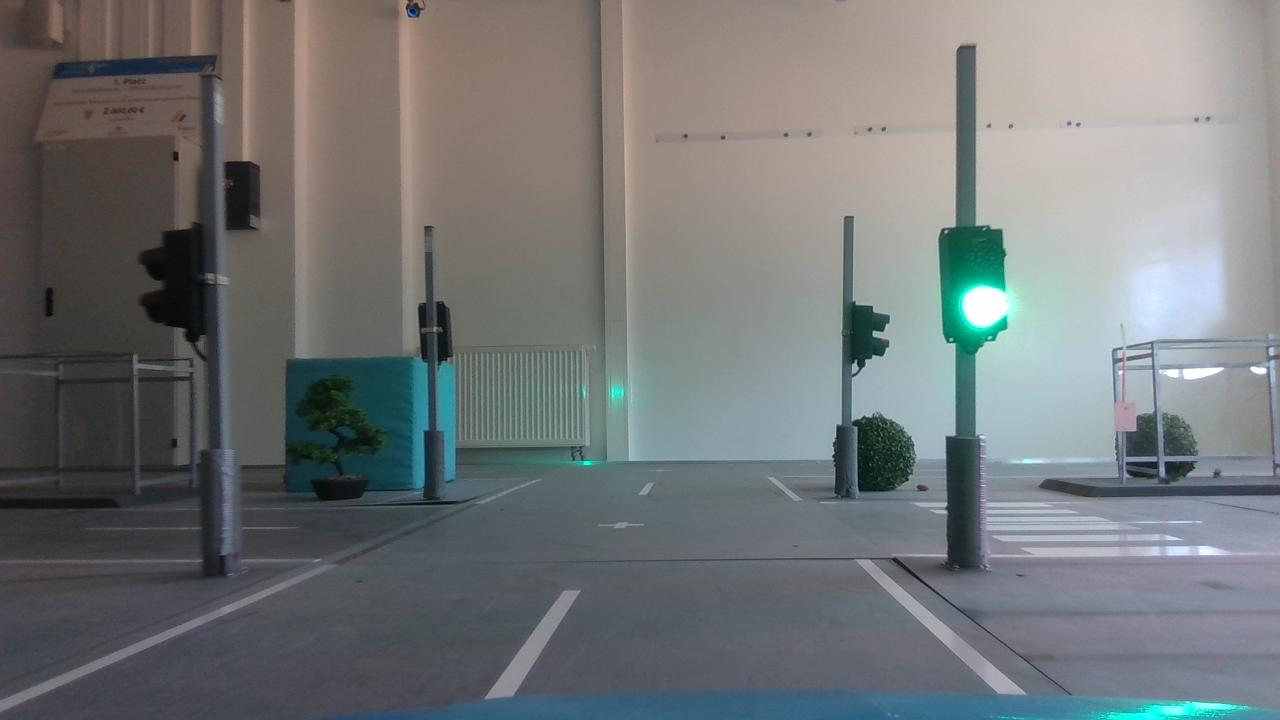traffic_light_green: (924, 218, 1022, 352)
